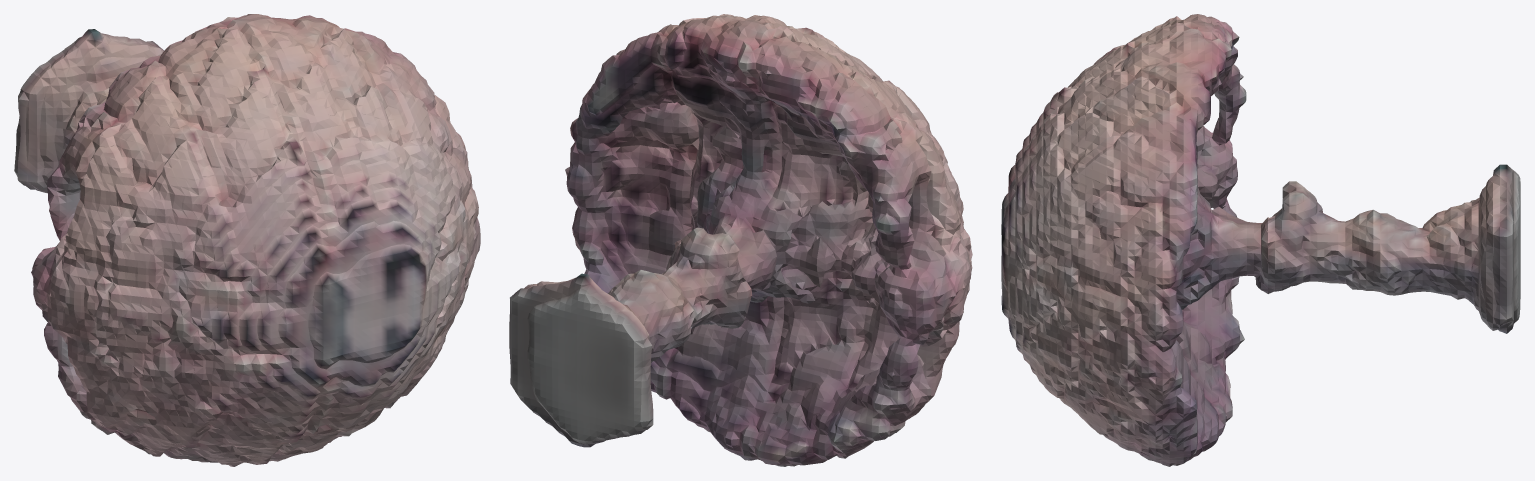
3 renders of one model, left to right at view 1: azimuth 30°, elevation 25°; view 2: azimuth 150°, elevation 25°; view 3: azimuth 270°, elevation 25°, orthographic. The views are drawn at different scales.
Visible parts, largest first — view 1: world; view 2: world; view 3: world.
Part boxes in pixels (x1,y1,x2,y2): world: [14, 14, 480, 466]; world: [509, 14, 972, 466]; world: [1001, 14, 1520, 466].
Bounding box in the file's own units: 0.8875 × 0.8981 × 1.01.
